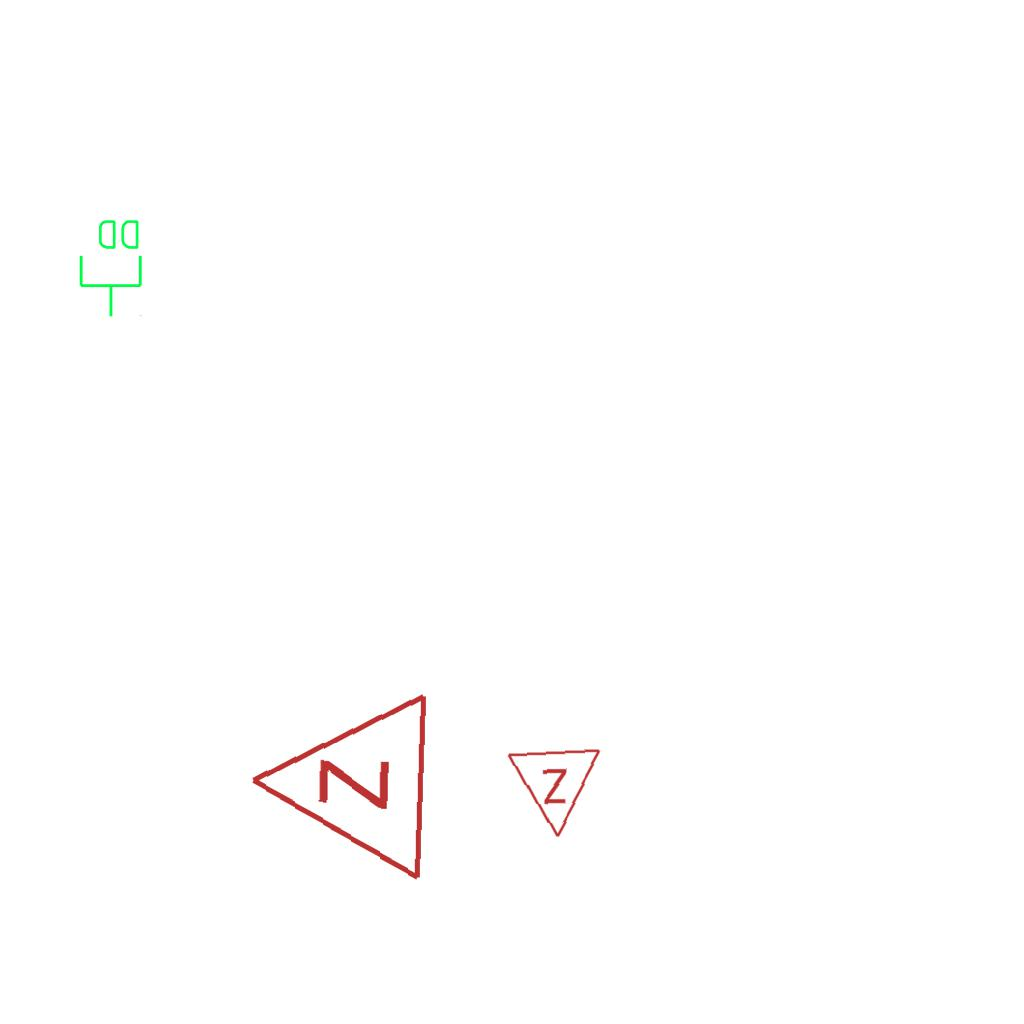Datenanschluss_zweifach: (77, 216, 146, 319)
Zimmersignalleuchte: (234, 684, 442, 888), (505, 741, 609, 847)
